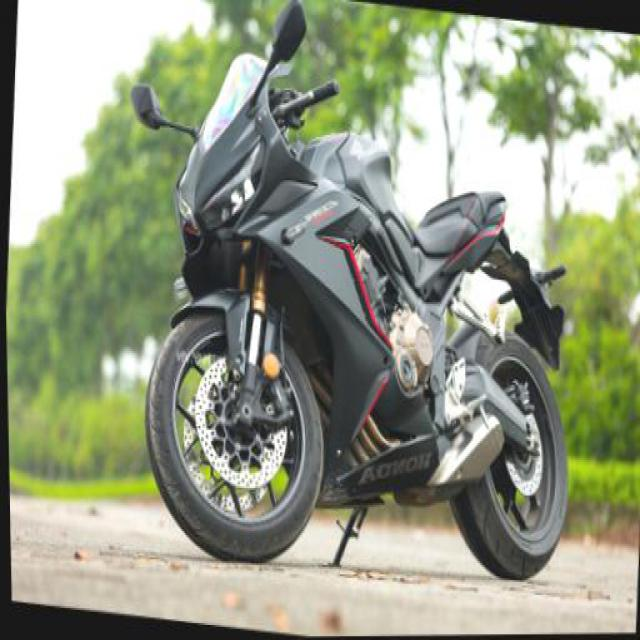CBR650R: (129, 34, 592, 606)
